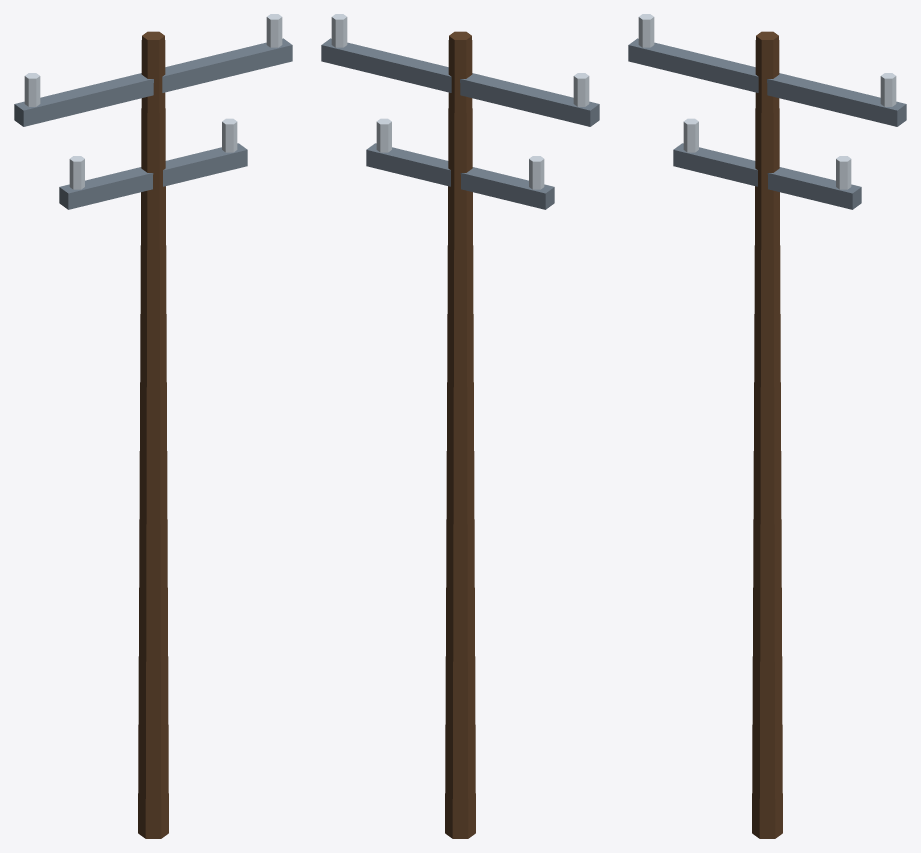
File: bg_power_pole.fbx
3 views of the same model, side by side, from view 1: azimuth 30°, elevation 25°; view 2: azimuth 150°, elevation 25°; view 3: azimuth 330°, elevation 25° (orthographic).
Parts seen in each view (by area): view 1: c_6B4A2F_SmoothPlastic, c_7D8B99_SmoothPlastic, c_DCE6F0_SmoothPlastic; view 2: c_6B4A2F_SmoothPlastic, c_7D8B99_SmoothPlastic, c_DCE6F0_SmoothPlastic; view 3: c_6B4A2F_SmoothPlastic, c_7D8B99_SmoothPlastic, c_DCE6F0_SmoothPlastic.
Boxes of the visible parts, x1,y1,x2,y2 form: c_6B4A2F_SmoothPlastic: (138,31,168,838); c_7D8B99_SmoothPlastic: (14,38,292,209); c_DCE6F0_SmoothPlastic: (24,14,282,189); c_6B4A2F_SmoothPlastic: (445,31,475,838); c_7D8B99_SmoothPlastic: (321,38,599,209); c_DCE6F0_SmoothPlastic: (331,14,589,189); c_6B4A2F_SmoothPlastic: (752,31,782,838); c_7D8B99_SmoothPlastic: (628,38,906,209); c_DCE6F0_SmoothPlastic: (638,14,896,189).
Size of the model in its own units: 12 by 34 by 1.2.
